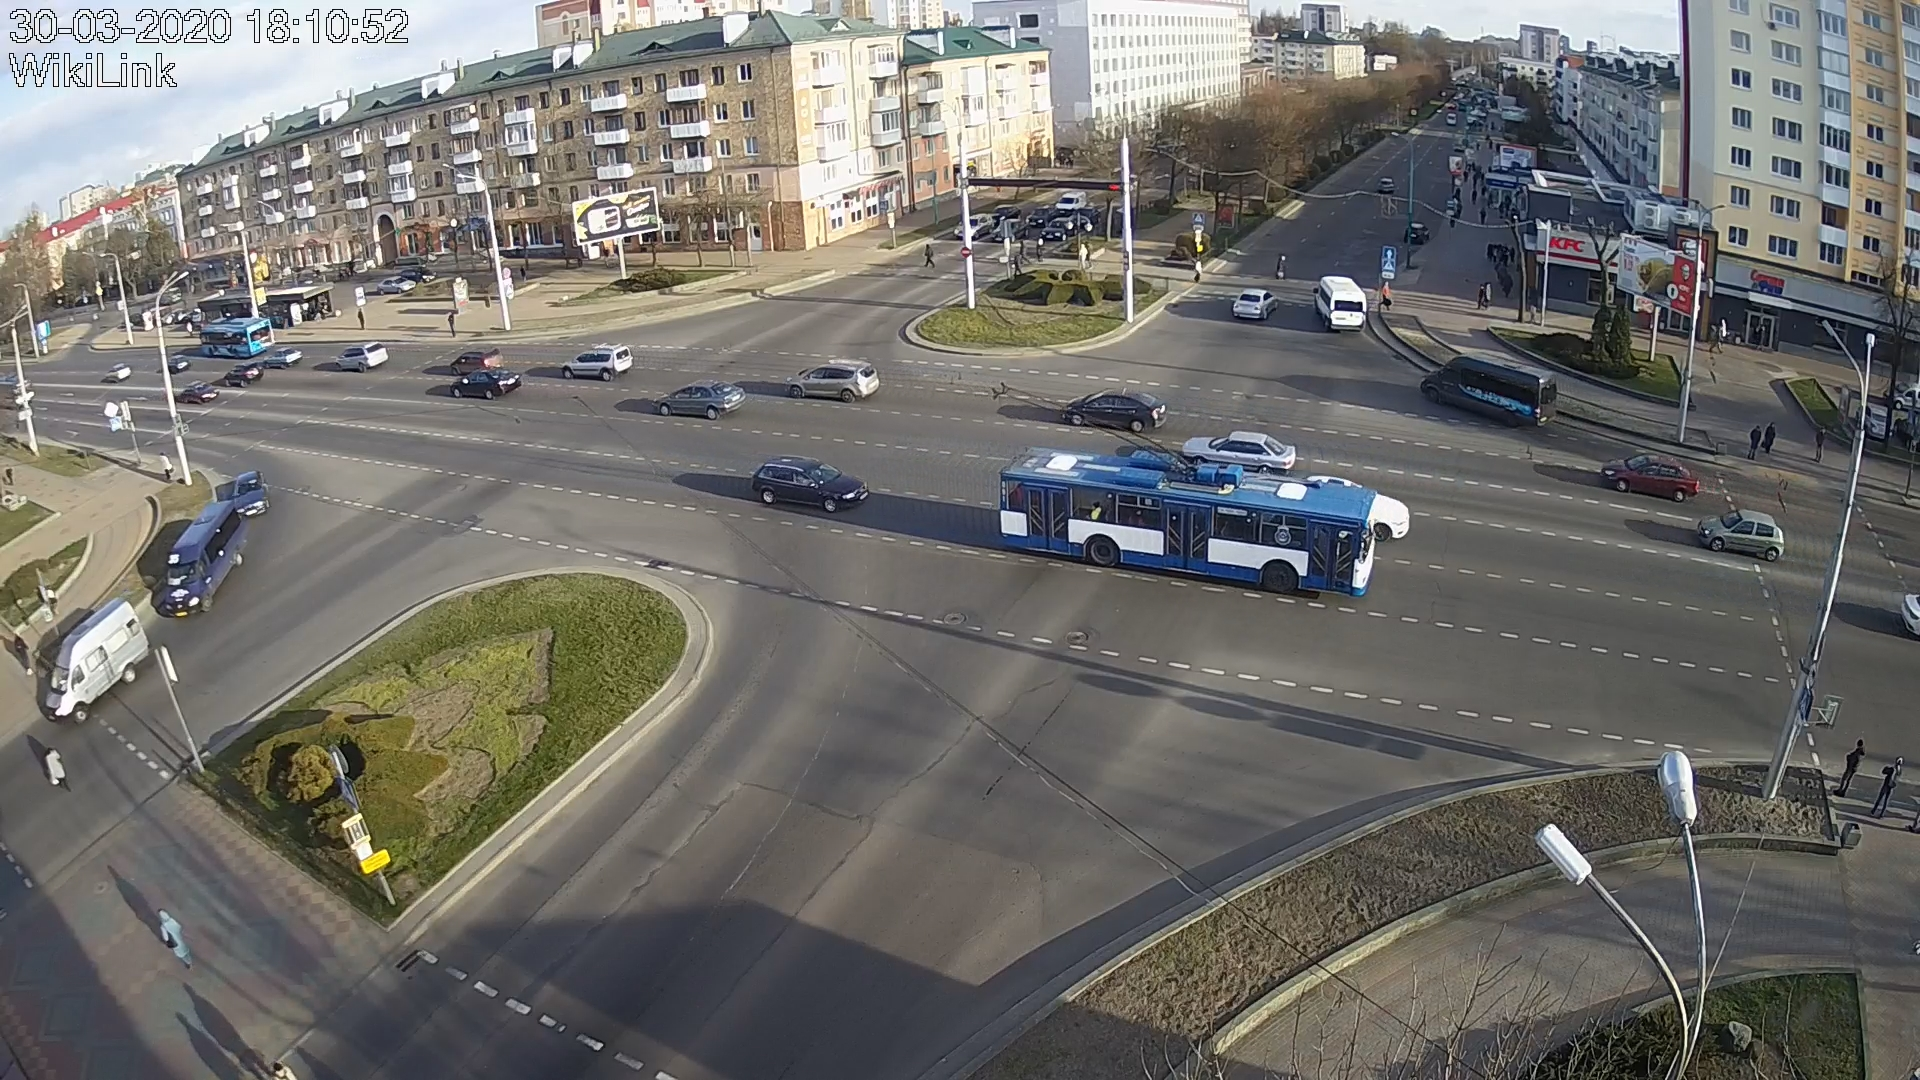bus: (998, 446, 1377, 601), (198, 316, 276, 357)
car: (44, 597, 156, 724), (1420, 351, 1557, 427), (164, 502, 249, 617), (1308, 472, 1412, 542), (752, 455, 870, 513), (1182, 430, 1298, 476), (1697, 508, 1785, 564), (1601, 454, 1700, 502), (1062, 388, 1168, 433), (785, 359, 881, 404), (651, 378, 746, 419), (1313, 276, 1365, 334), (560, 343, 633, 382), (450, 367, 521, 400), (233, 469, 270, 520), (450, 347, 505, 377), (336, 342, 389, 373), (1232, 287, 1278, 320), (262, 348, 305, 371), (181, 380, 219, 404), (225, 363, 264, 386)
